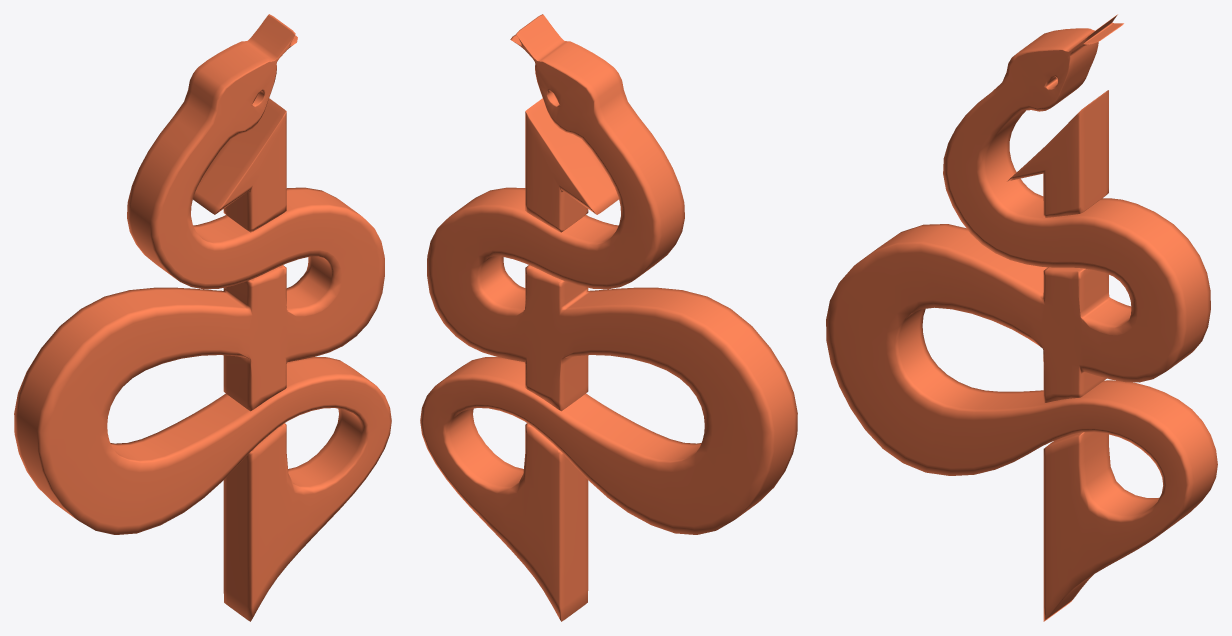
The model's file is pendant.glb.
3 views of the same model, side by side, from view 1: azimuth 30°, elevation 25°; view 2: azimuth 150°, elevation 25°; view 3: azimuth 330°, elevation 25° (orthographic). The views are drawn at different scales.
Parts seen in each view (by area): view 1: pPlane2; view 2: pPlane2; view 3: pPlane2.
Part boxes in pixels (x1,y1,x2,y2): pPlane2: [14, 14, 391, 621]; pPlane2: [420, 14, 797, 621]; pPlane2: [826, 14, 1217, 621].
Bounding box in the file's own units: 0.0766 × 0.1205 × 0.0104.
